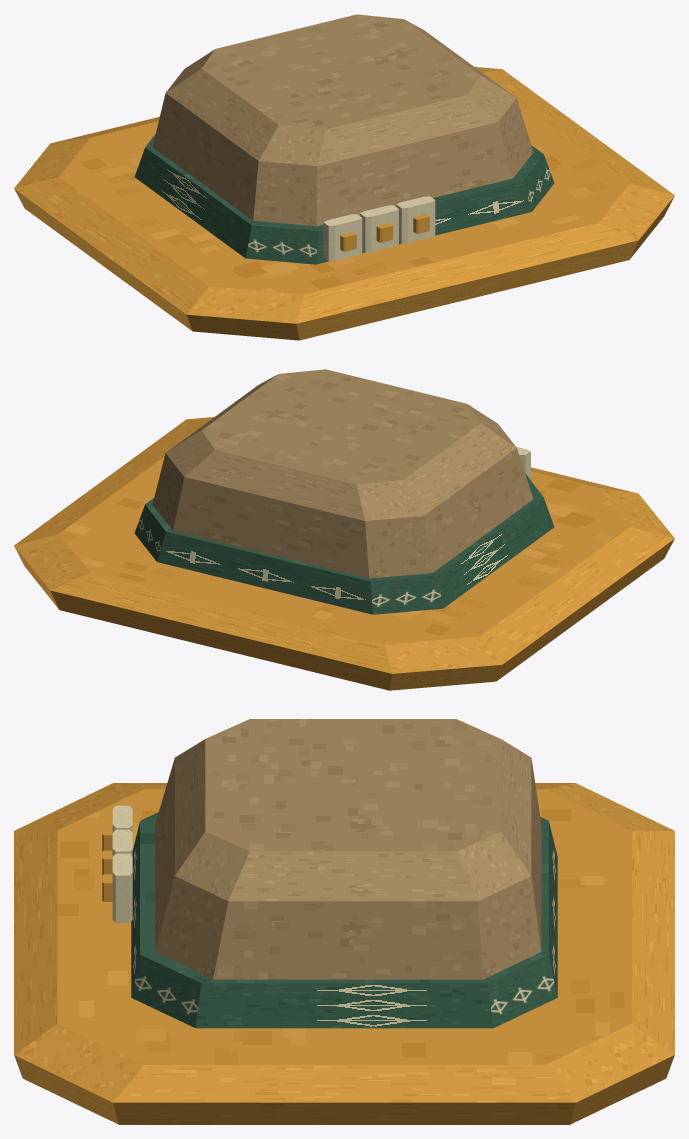
The model's file is hat1.glb.
The picture shows the model from 3 angles, top to bottom: view 1: azimuth 30°, elevation 25°; view 2: azimuth 150°, elevation 25°; view 3: azimuth 270°, elevation 25°; orthographic projection. The views are drawn at different scales.
Parts seen in each view (by area): view 1: vesna_hat; view 2: vesna_hat; view 3: vesna_hat.
Part boxes in pixels (x1,y1,x2,y2): vesna_hat: [14, 14, 674, 340]; vesna_hat: [14, 369, 674, 690]; vesna_hat: [14, 719, 674, 1124].
Size of the model in its own units: 0.87 by 0.235 by 0.76.
Materials: 1 (1 with a texture image).
